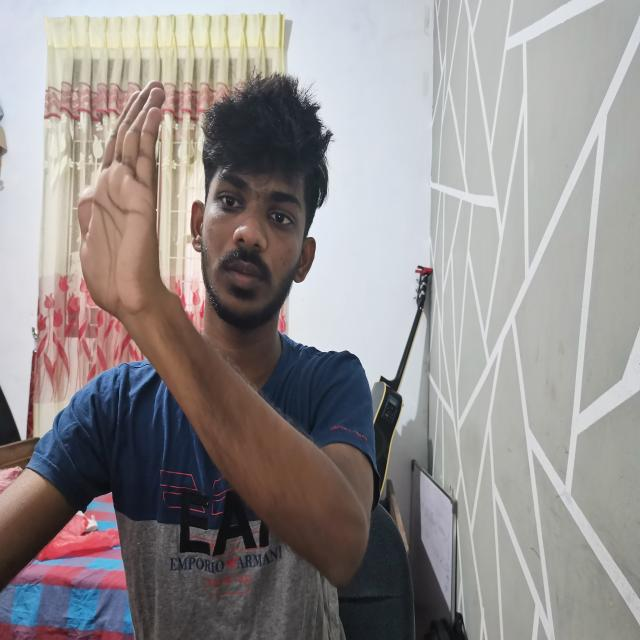Hello: (70, 74, 172, 323)
